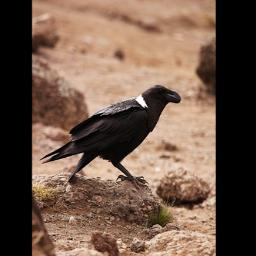Crow: (40, 81, 183, 195)
